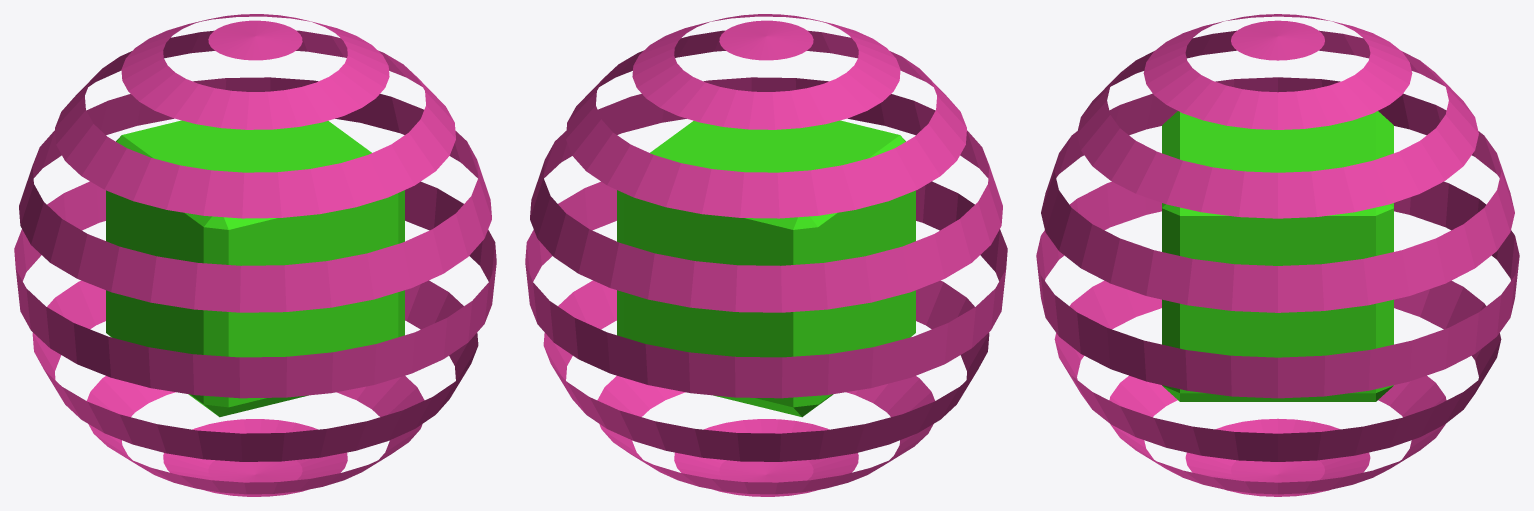
3 views of the same model, side by side, from view 1: azimuth 30°, elevation 25°; view 2: azimuth 150°, elevation 25°; view 3: azimuth 270°, elevation 25° (orthographic).
Parts seen in each view (by area): view 1: Sphere, Cube; view 2: Sphere, Cube; view 3: Sphere, Cube.
Part boxes in pixels (left/top/right/bottom): Sphere: left=14, top=14, right=496, bottom=496; Cube: left=106, top=120, right=404, bottom=417; Sphere: left=525, top=14, right=1007, bottom=496; Cube: left=617, top=120, right=915, bottom=417; Sphere: left=1036, top=14, right=1519, bottom=496; Cube: left=1162, top=111, right=1393, bottom=401.
Bounding box in the file's own units: 784 × 784 × 784.
